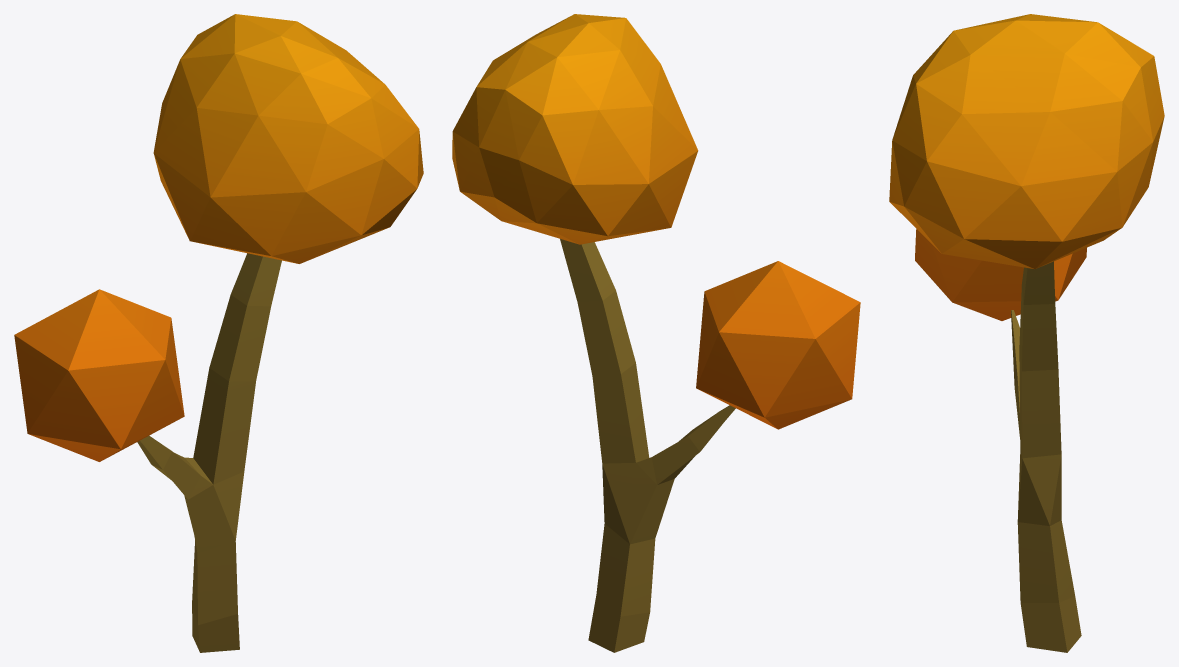
The model's file is tree_6.fbx.
3 views of the same model, side by side, from view 1: azimuth 30°, elevation 25°; view 2: azimuth 150°, elevation 25°; view 3: azimuth 270°, elevation 25° (orthographic). The views are drawn at different scales.
Visible parts, largest first — view 1: tree_6; view 2: tree_6; view 3: tree_6.
Part boxes in pixels (x1,y1,x2,y2): tree_6: (14,14,423,652); tree_6: (452,14,860,652); tree_6: (889,14,1164,652).
Size of the model in its own units: 1.47 by 2.25 by 0.8727.
